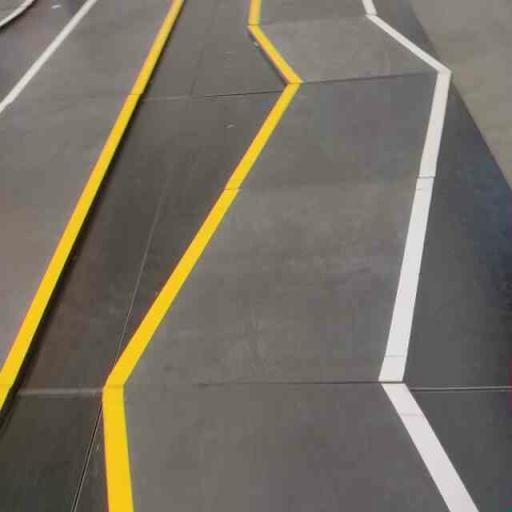crossright: (93, 177, 441, 391)
